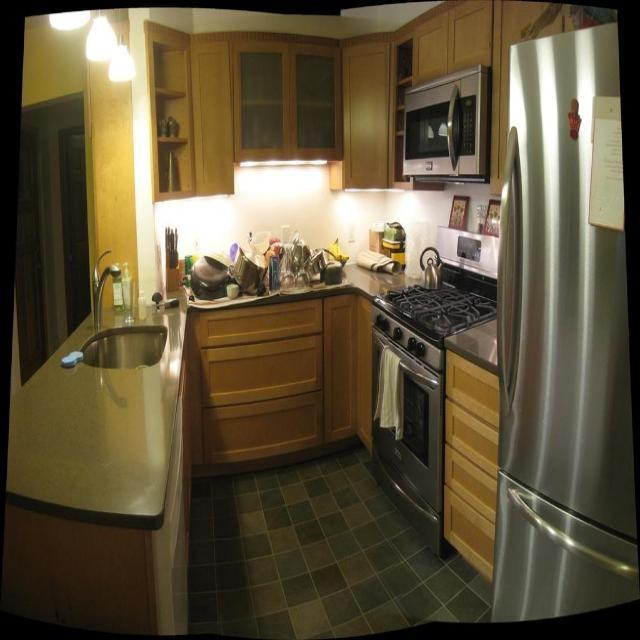door: (0, 34, 98, 394)
obstacle: (184, 241, 390, 504)
